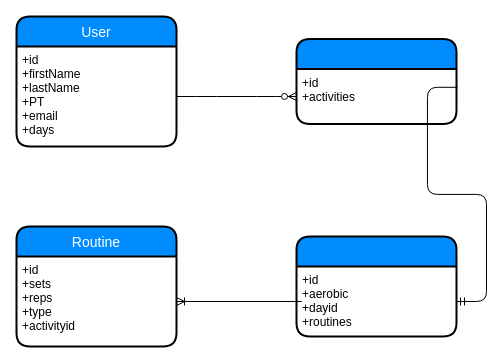
This 503x363 diagram has some shape labels left out. Here are the shapes that lost their labels. From the top down, the box of each, then its label:
(295, 38, 457, 124): Day
(295, 235, 457, 337): Activity
